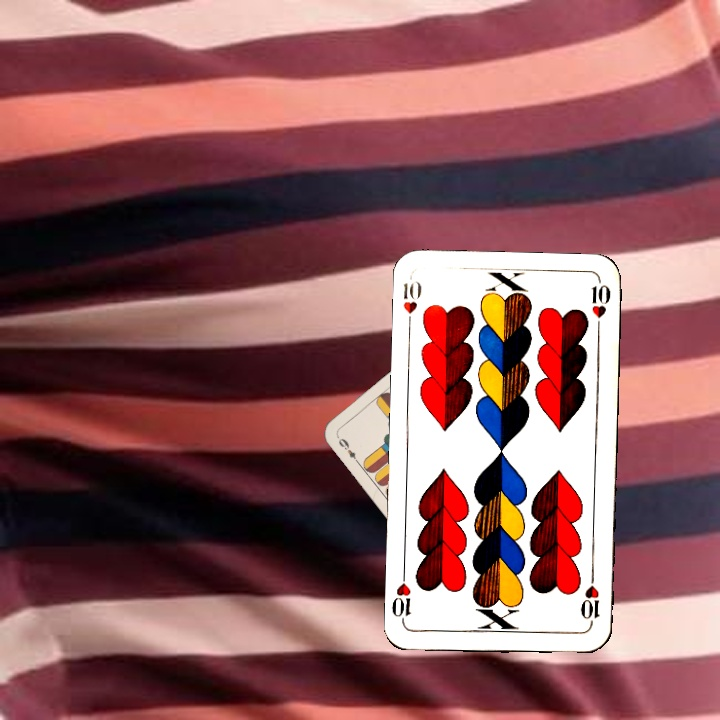E9: (333, 432, 362, 467)
H10: (577, 569, 602, 628), (399, 277, 424, 333)
